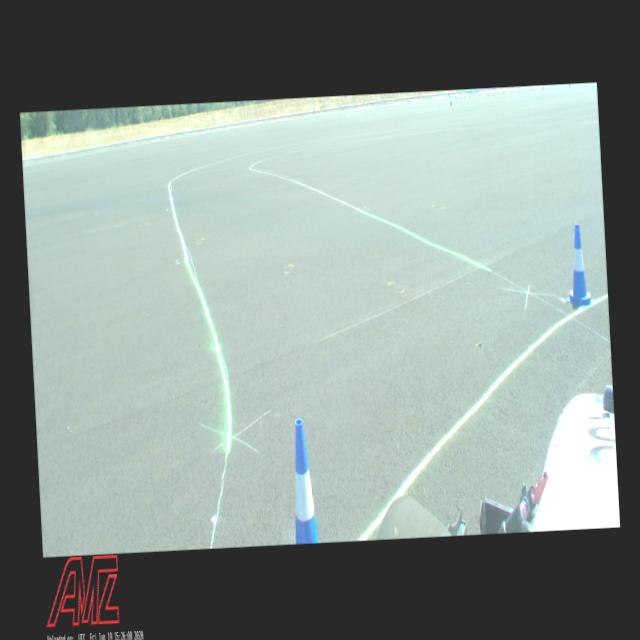blue_cone: (290, 418, 320, 544), (562, 224, 594, 306)
